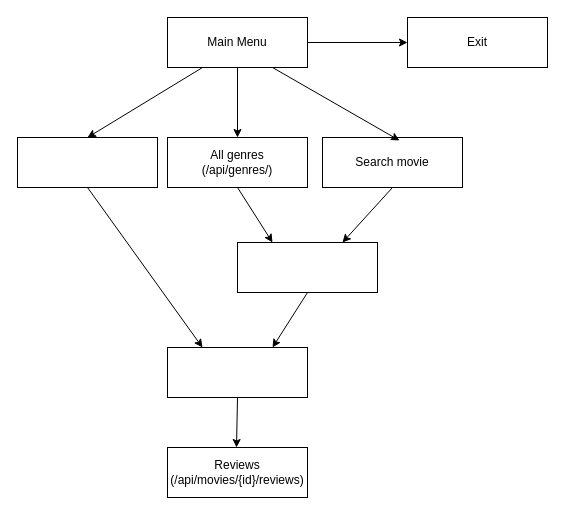
The diagram is 565 pixels wide and 515 high, and some of its shapes have lost their labels. The box of each missing label's shape, as (x1, y1, x2, y2) in pixels:
A subgroup of movies: (236, 242, 378, 292)
All movies (/api/movies/): (16, 136, 158, 188)
Movie (/api/movies/{id}/): (166, 346, 308, 398)
